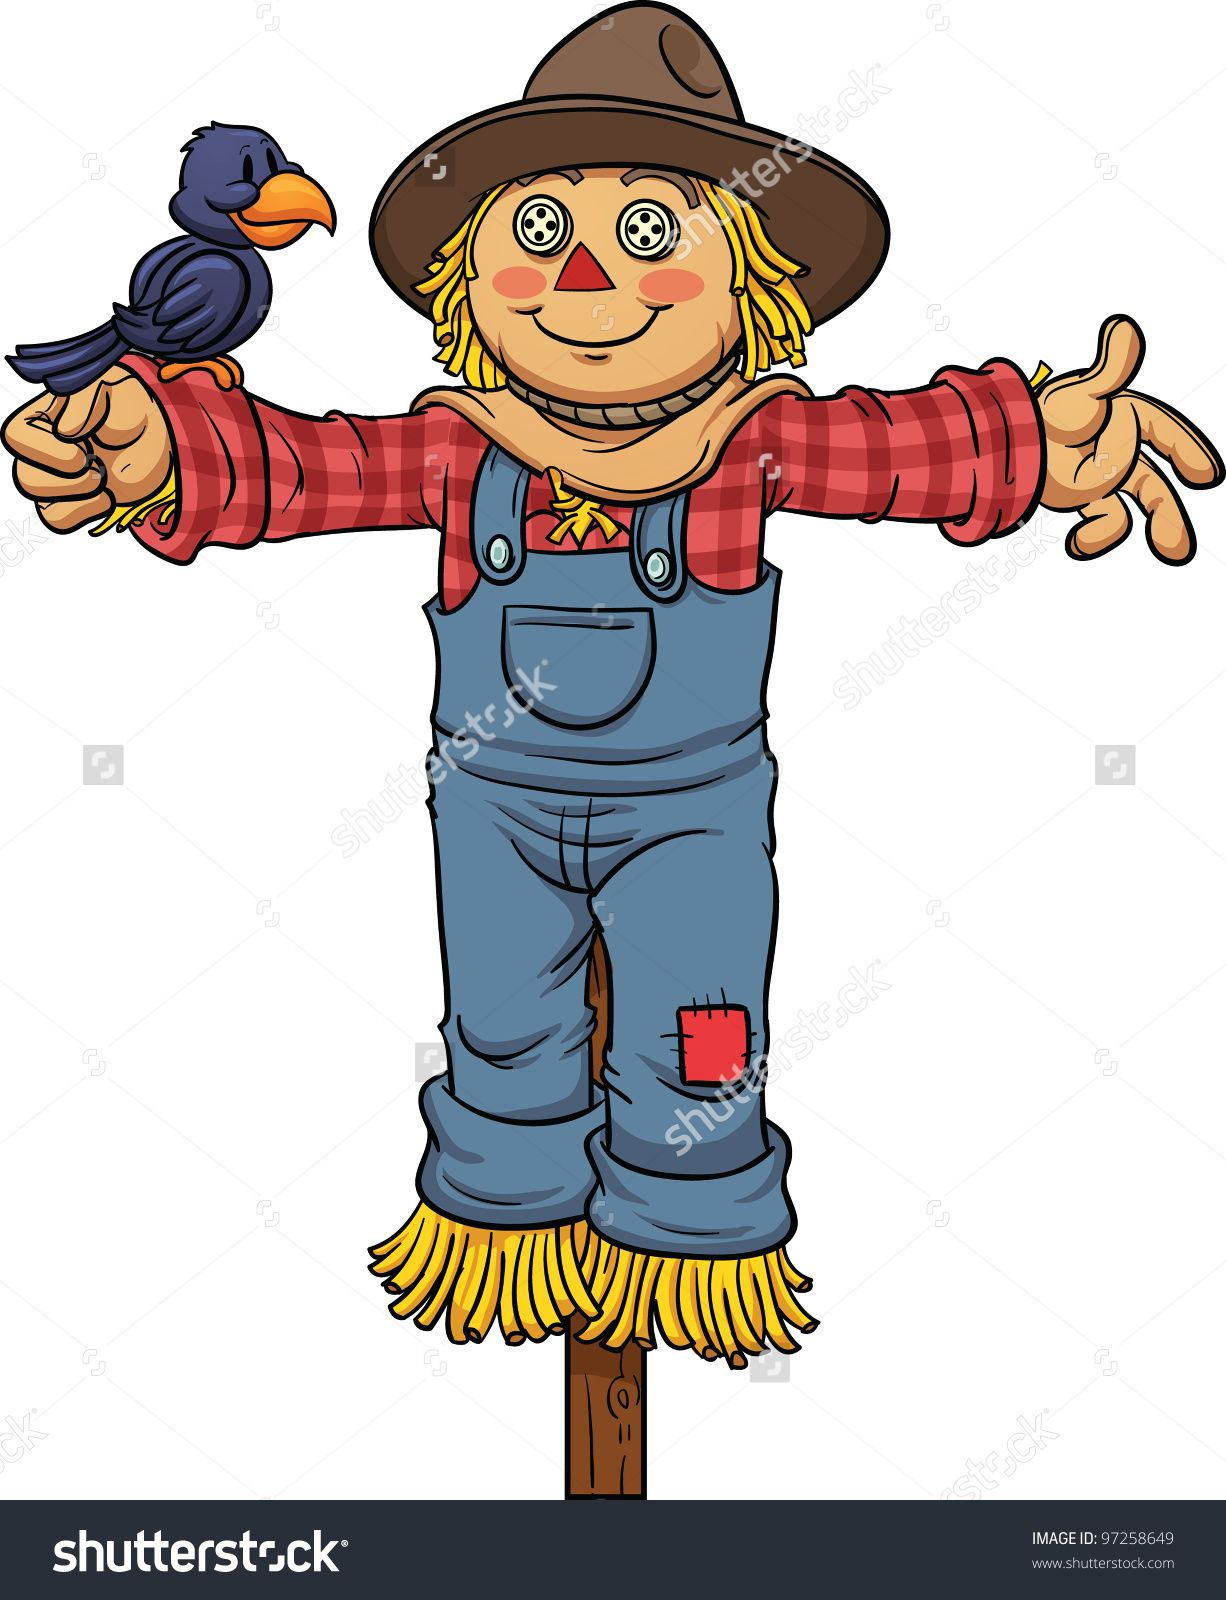person-like: (9, 4, 1226, 1375)
